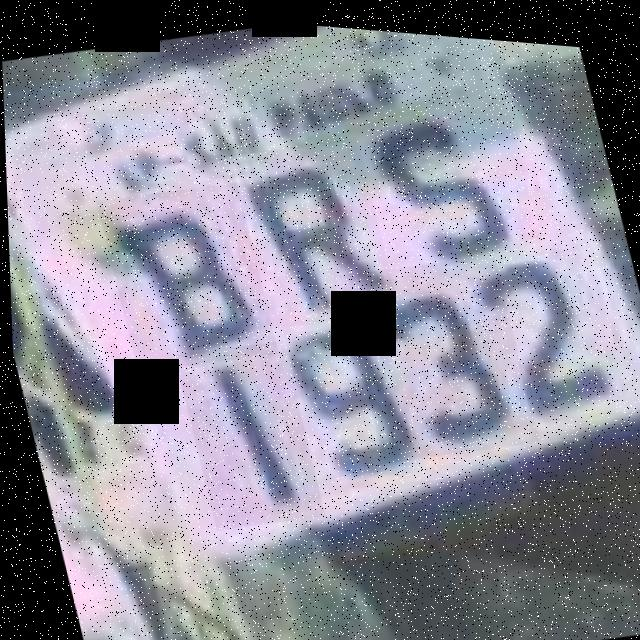1: (170, 329, 322, 533)
2: (438, 209, 632, 422)
3: (335, 237, 538, 466)
9: (250, 284, 445, 500)
B: (94, 169, 277, 379)
R: (215, 122, 398, 334)
